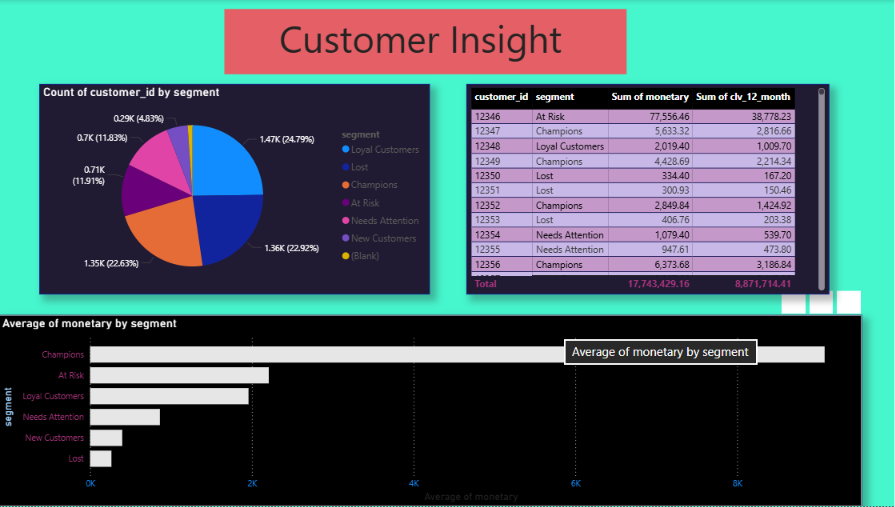

The page's visual inventory and layout, read from the dashboard file:
{"tool":"powerbi","page":{"name":"Page 2","canvas":[1280,720],"ordinal":1},"visuals":[{"type":"textbox","box":[321.6,13.5,572.3,92.9],"z":0},{"type":"pieChart","fields":{"Category":["retail_db rfm_segments.segment"],"Y":["CountNonNull(retail_db customers.customer_id)"]},"box":[58.7,119.8,555.2,299.6],"z":1000},{"type":"clusteredBarChart","fields":{"Category":["retail_db rfm_segments.segment"],"Y":["Avg(retail_db rfm_segments.monetary)"]},"box":[0,447.6,1227.7,272.7],"z":2000},{"type":"tableEx","fields":{"Values":["retail_db rfm_segments.customer_id","retail_db rfm_segments.segment","Sum(retail_db rfm_segments.monetary)","Sum(retail_db customer_clv.clv_12_month)"]},"box":[665.2,119.8,516,299.6],"z":3000}]}

Visuals, with their boxes in screenshot pixels (x1, y1, x2, y2), scaled from the page's 1280x720 canvas onto the 895x507 screenshot:
textbox: <box>225,10,625,75</box>
pieChart - retail_db rfm_segments.segment x CountNonNull(retail_db customers.customer_id): <box>41,84,429,295</box>
clusteredBarChart - retail_db rfm_segments.segment x Avg(retail_db rfm_segments.monetary): <box>0,315,858,506</box>
tableEx - retail_db rfm_segments.customer_id x retail_db rfm_segments.segment: <box>465,84,826,295</box>
